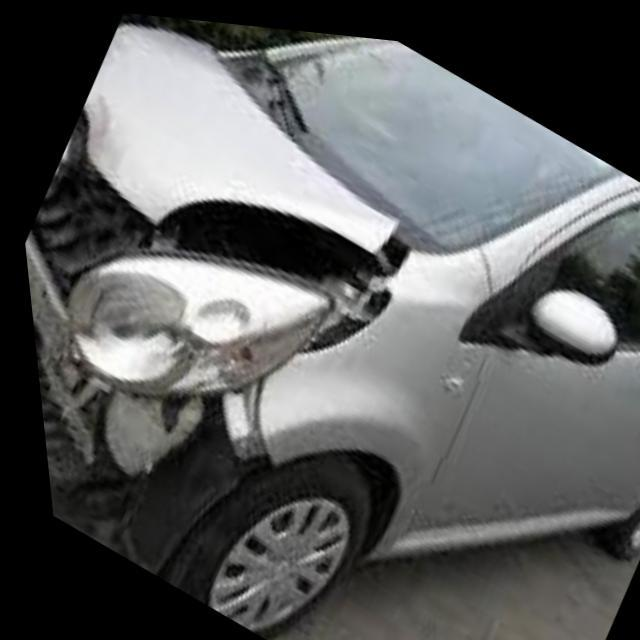no part: (20, 83, 398, 561)
